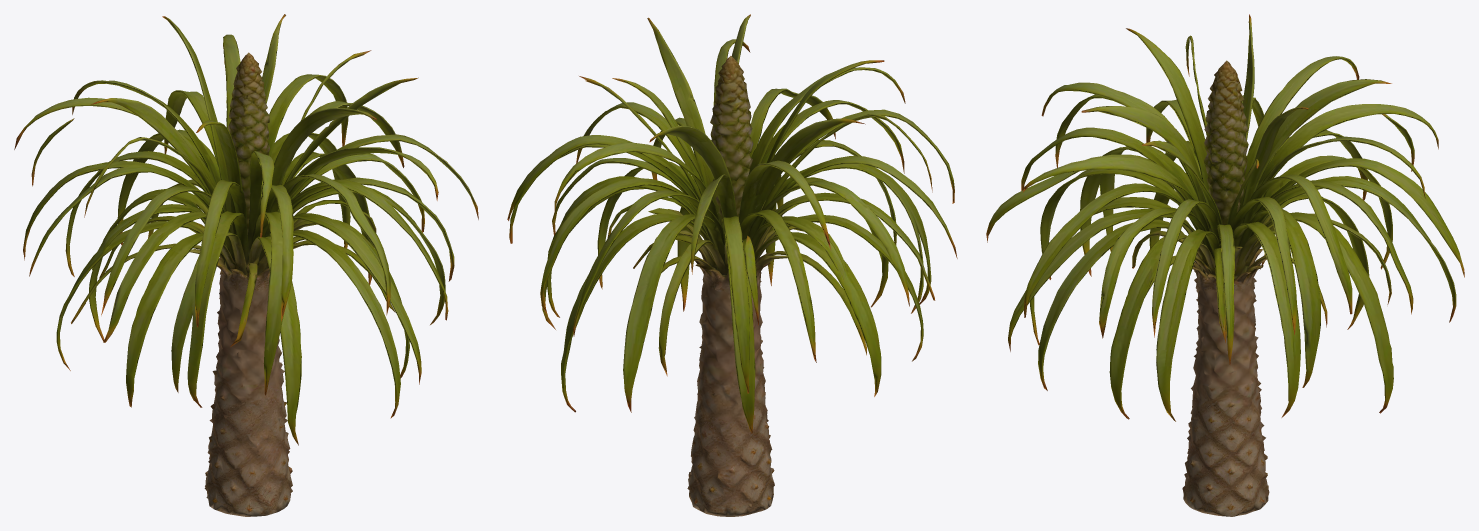
The model's file is pleuromeia.raw.glb.
3 views of the same model, side by side, from view 1: azimuth 30°, elevation 25°; view 2: azimuth 150°, elevation 25°; view 3: azimuth 270°, elevation 25° (orthographic).
Visible parts, largest first — view 1: tripo_node_669ea3a5-e3d7-4b1b-8b83-713e559cb19a; view 2: tripo_node_669ea3a5-e3d7-4b1b-8b83-713e559cb19a; view 3: tripo_node_669ea3a5-e3d7-4b1b-8b83-713e559cb19a.
Boxes of the visible parts, <box> form: tripo_node_669ea3a5-e3d7-4b1b-8b83-713e559cb19a: <box>14,14,478,516</box>; tripo_node_669ea3a5-e3d7-4b1b-8b83-713e559cb19a: <box>507,14,957,516</box>; tripo_node_669ea3a5-e3d7-4b1b-8b83-713e559cb19a: <box>986,14,1464,516</box>.
Bounding box in the file's own units: 0.9152 × 1 × 0.9816.
1 material, 1 textured.
